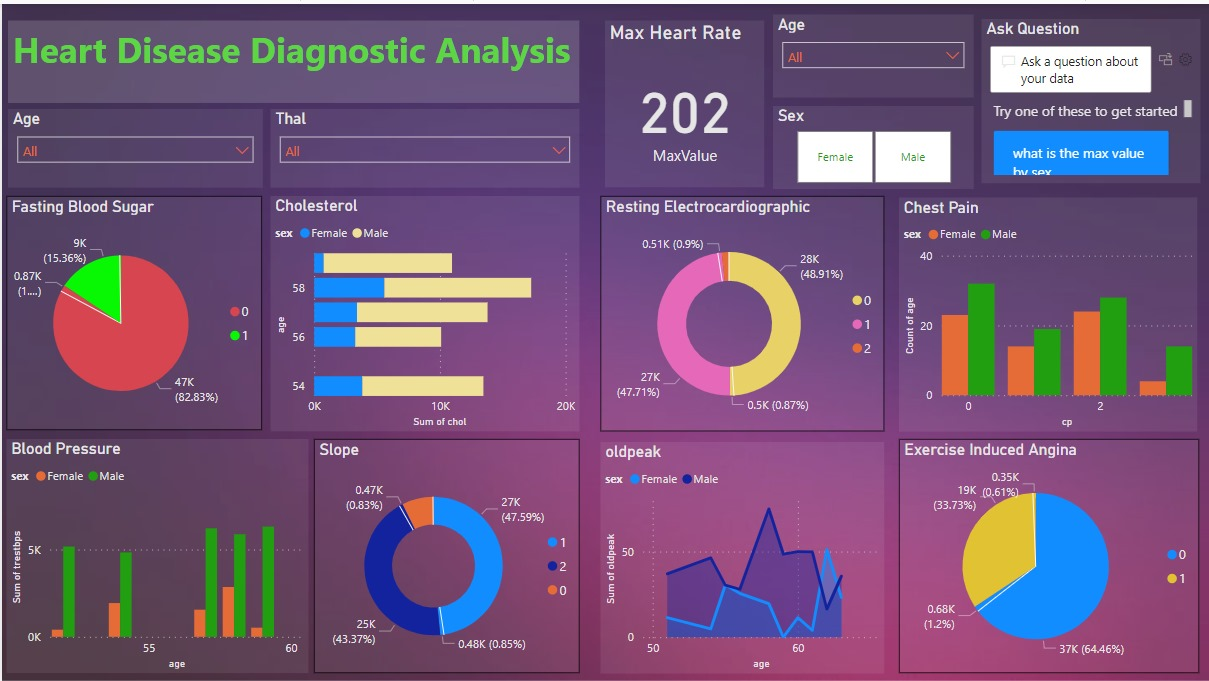

The page's visual inventory and layout, read from the dashboard file:
{"tool":"powerbi","page":{"name":"Page 1","canvas":[1280,720],"ordinal":0},"visuals":[{"type":"clusteredColumnChart","title":"Chest Pain","fields":{"Category":["Heart Disease data.cp"],"Y":["Count(Heart Disease data.age)"],"Series":["Heart Disease data.sex"]},"box":[951.1,204.5,315.7,248.2],"z":0},{"type":"clusteredColumnChart","title":"Blood Pressure","fields":{"Series":["Heart Disease data.sex"],"Category":["Heart Disease data.age"],"Y":["Sum(Heart Disease data.trestbps)"]},"box":[5.5,460.7,320,248.3],"z":1000},{"type":"donutChart","title":"Slope","fields":{"Category":["Heart Disease data.slope"],"Y":["Sum(Heart Disease data.age)","CountNonNull(Heart Disease data.sex)"]},"box":[330.6,460.9,281.3,247.9],"z":2000},{"type":"areaChart","title":"oldpeak","fields":{"Category":["Heart Disease data.age"],"Y":["Sum(Heart Disease data.oldpeak)"],"Series":["Heart Disease data.sex"]},"box":[634.5,463.4,300.7,245.5],"z":3000},{"type":"pieChart","title":"Fasting Blood Sugar","fields":{"Y":["Sum(Heart Disease data.age)","CountNonNull(Heart Disease data.sex)"],"Category":["Heart Disease data.fbs"]},"box":[5.5,204.1,270.3,248.3],"z":4000},{"type":"barChart","title":"Cholesterol","fields":{"Category":["Heart Disease data.age"],"Series":["Heart Disease data.sex"],"Y":["Sum(Heart Disease data.chol)"]},"box":[284.5,203.4,327.4,249.5],"z":5000},{"type":"donutChart","title":"Resting Electrocardiographic","fields":{"Y":["Sum(Heart Disease data.age)","CountNonNull(Heart Disease data.sex)"],"Category":["Heart Disease data.restecg"]},"box":[634.2,203.4,300.4,249.5],"z":6000},{"type":"pieChart","title":"Exercise Induced Angina","fields":{"Y":["Sum(Heart Disease data.age)","CountNonNull(Heart Disease data.sex)"],"Category":["Heart Disease data.exang"]},"box":[951.1,460.6,317.7,248.2],"z":7000},{"type":"card","title":"Max Heart Rate","fields":{"Values":["Heart Disease data.MaxValue"]},"box":[639.3,17.9,168.8,176.7],"z":8000},{"type":"slicer","title":"Sex","fields":{"Values":["Heart Disease data.sex"]},"box":[816.6,107.6,212.4,88.3],"z":9000},{"type":"slicer","title":"Age","fields":{"Values":["Heart Disease data.age"]},"box":[816.6,11,212.4,88.3],"z":10000},{"type":"textbox","box":[6,17.9,605.6,87.4],"z":11000},{"type":"slicer","title":"Age","fields":{"Values":["Heart Disease data.ca"]},"box":[6,111.2,270,83.4],"z":11001},{"type":"slicer","title":"Thal","fields":{"Values":["Heart Disease data.thal"]},"box":[283.9,111.2,327.6,83.4],"z":11002},{"type":"qnaVisual","title":"Ask Question","box":[1037.2,16.6,231.7,173.8],"z":11003}]}

Visuals, with their boxes in screenshot pixels (x1, y1, x2, y2), scaled from the page's 1280x720 canvas onto the 1209x681 screenshot:
"Chest Pain" clusteredColumnChart: x1=898 y1=193 x2=1197 y2=428
"Blood Pressure" clusteredColumnChart: x1=5 y1=436 x2=307 y2=671
"Slope" donutChart: x1=312 y1=436 x2=578 y2=670
"oldpeak" areaChart: x1=599 y1=438 x2=883 y2=671
"Fasting Blood Sugar" pieChart: x1=5 y1=193 x2=261 y2=428
"Cholesterol" barChart: x1=269 y1=192 x2=578 y2=428
"Resting Electrocardiographic" donutChart: x1=599 y1=192 x2=883 y2=428
"Exercise Induced Angina" pieChart: x1=898 y1=436 x2=1198 y2=670
"Max Heart Rate" card: x1=604 y1=17 x2=763 y2=184
"Sex" slicer: x1=771 y1=102 x2=972 y2=185
"Age" slicer: x1=771 y1=10 x2=972 y2=94
textbox: x1=6 y1=17 x2=578 y2=100
"Age" slicer: x1=6 y1=105 x2=261 y2=184
"Thal" slicer: x1=268 y1=105 x2=578 y2=184
"Ask Question" qnaVisual: x1=980 y1=16 x2=1199 y2=180
